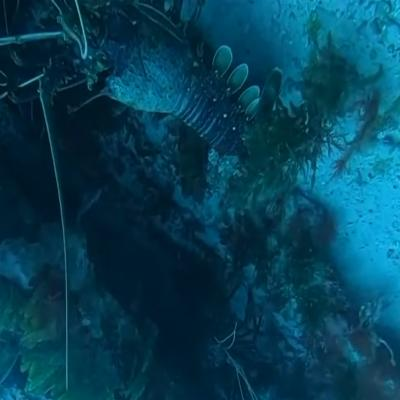lobster: (62, 0, 246, 154)
